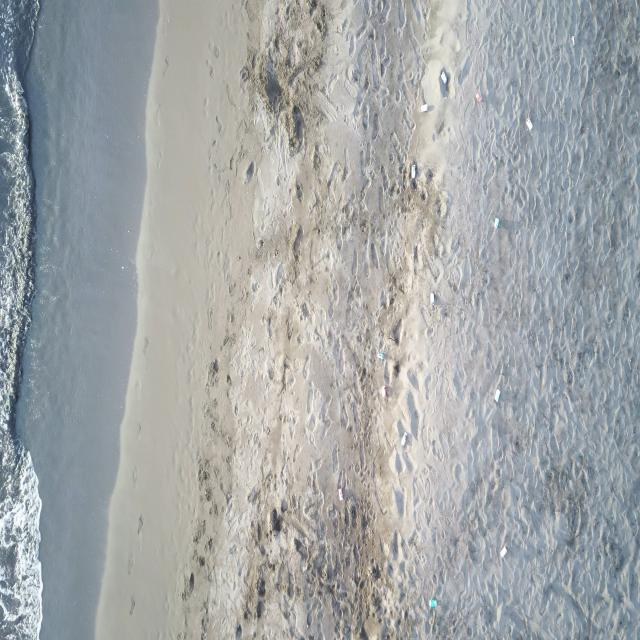tin-and-aluminum-cans: (401, 431, 408, 446), (440, 71, 448, 84), (500, 545, 507, 558), (430, 292, 436, 307), (526, 117, 532, 131), (494, 389, 500, 403), (429, 599, 437, 609), (411, 163, 416, 179), (338, 488, 344, 501), (475, 92, 482, 103), (419, 104, 428, 112), (382, 385, 387, 399), (494, 217, 500, 228), (377, 352, 384, 360)
